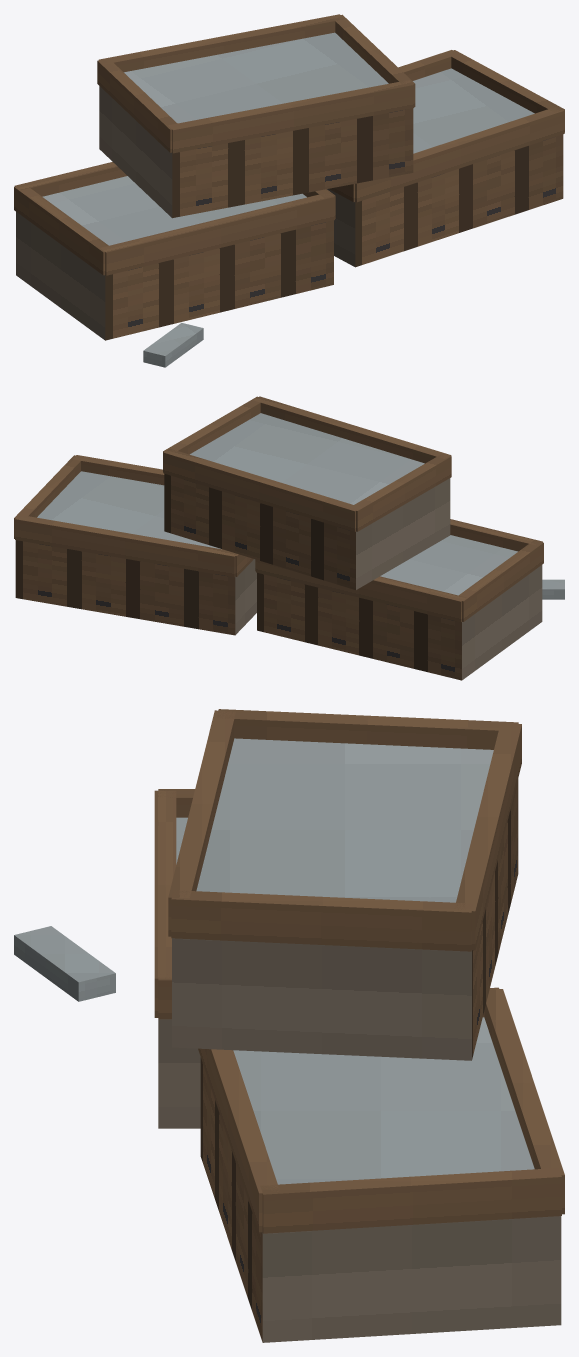
The model's file is fish-crates.glb.
The picture shows the model from 3 angles, top to bottom: view 1: azimuth 30°, elevation 25°; view 2: azimuth 150°, elevation 25°; view 3: azimuth 270°, elevation 25°; orthographic projection. The views are drawn at different scales.
Parts seen in each view (by area): view 1: fish-crates.001; view 2: fish-crates.001; view 3: fish-crates.001.
Part boxes in pixels (x1,y1,x2,y2): fish-crates.001: (14, 14, 564, 367); fish-crates.001: (14, 396, 564, 680); fish-crates.001: (14, 709, 564, 1342).
Size of the model in its own units: 1.34 by 0.46 by 0.767.
1 material, 1 textured.
